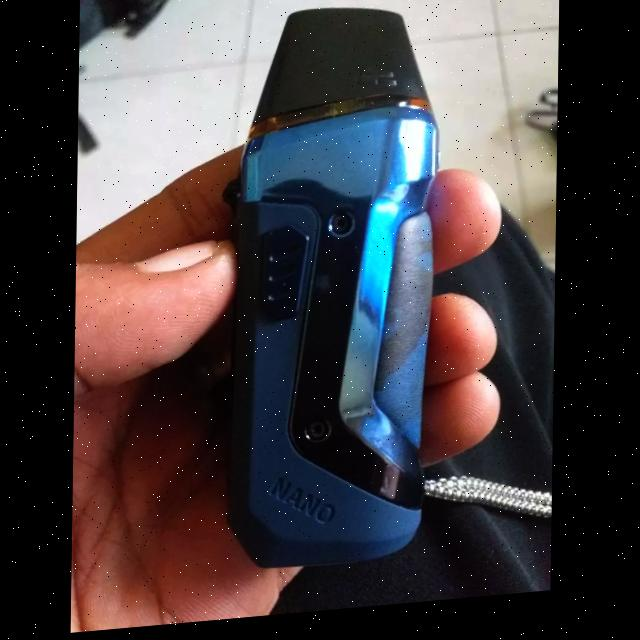vape: (226, 5, 441, 574)
